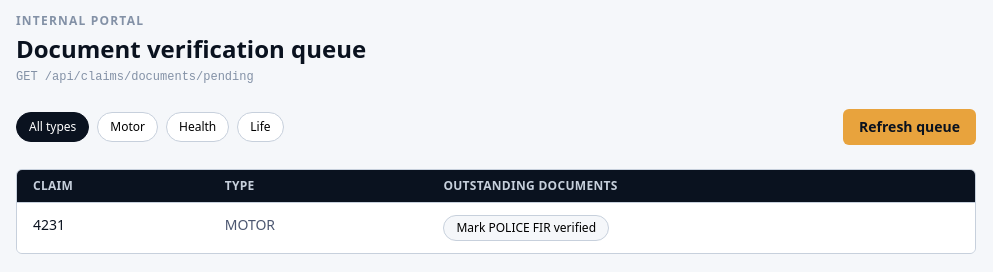
it: DocumentQueuePage › AC2: verifying the last outstanding item removes the claim from the queue on next refresh
The image size is (993, 272).
Expected: the text "4231" is shown, [33, 215, 65, 234]
Click the button "Mark POLICE FIR verified" at (526, 228), box [443, 215, 609, 241]
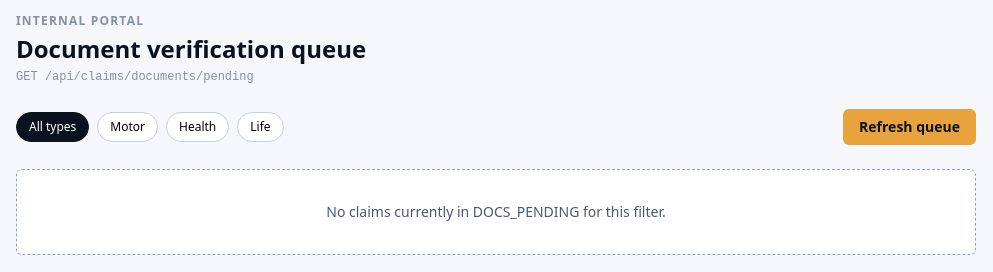
Result: the text "4231" is gone
Result: the text "No claims currently in DOCS_PENDING for this filter." is shown at [16, 169, 976, 255]
